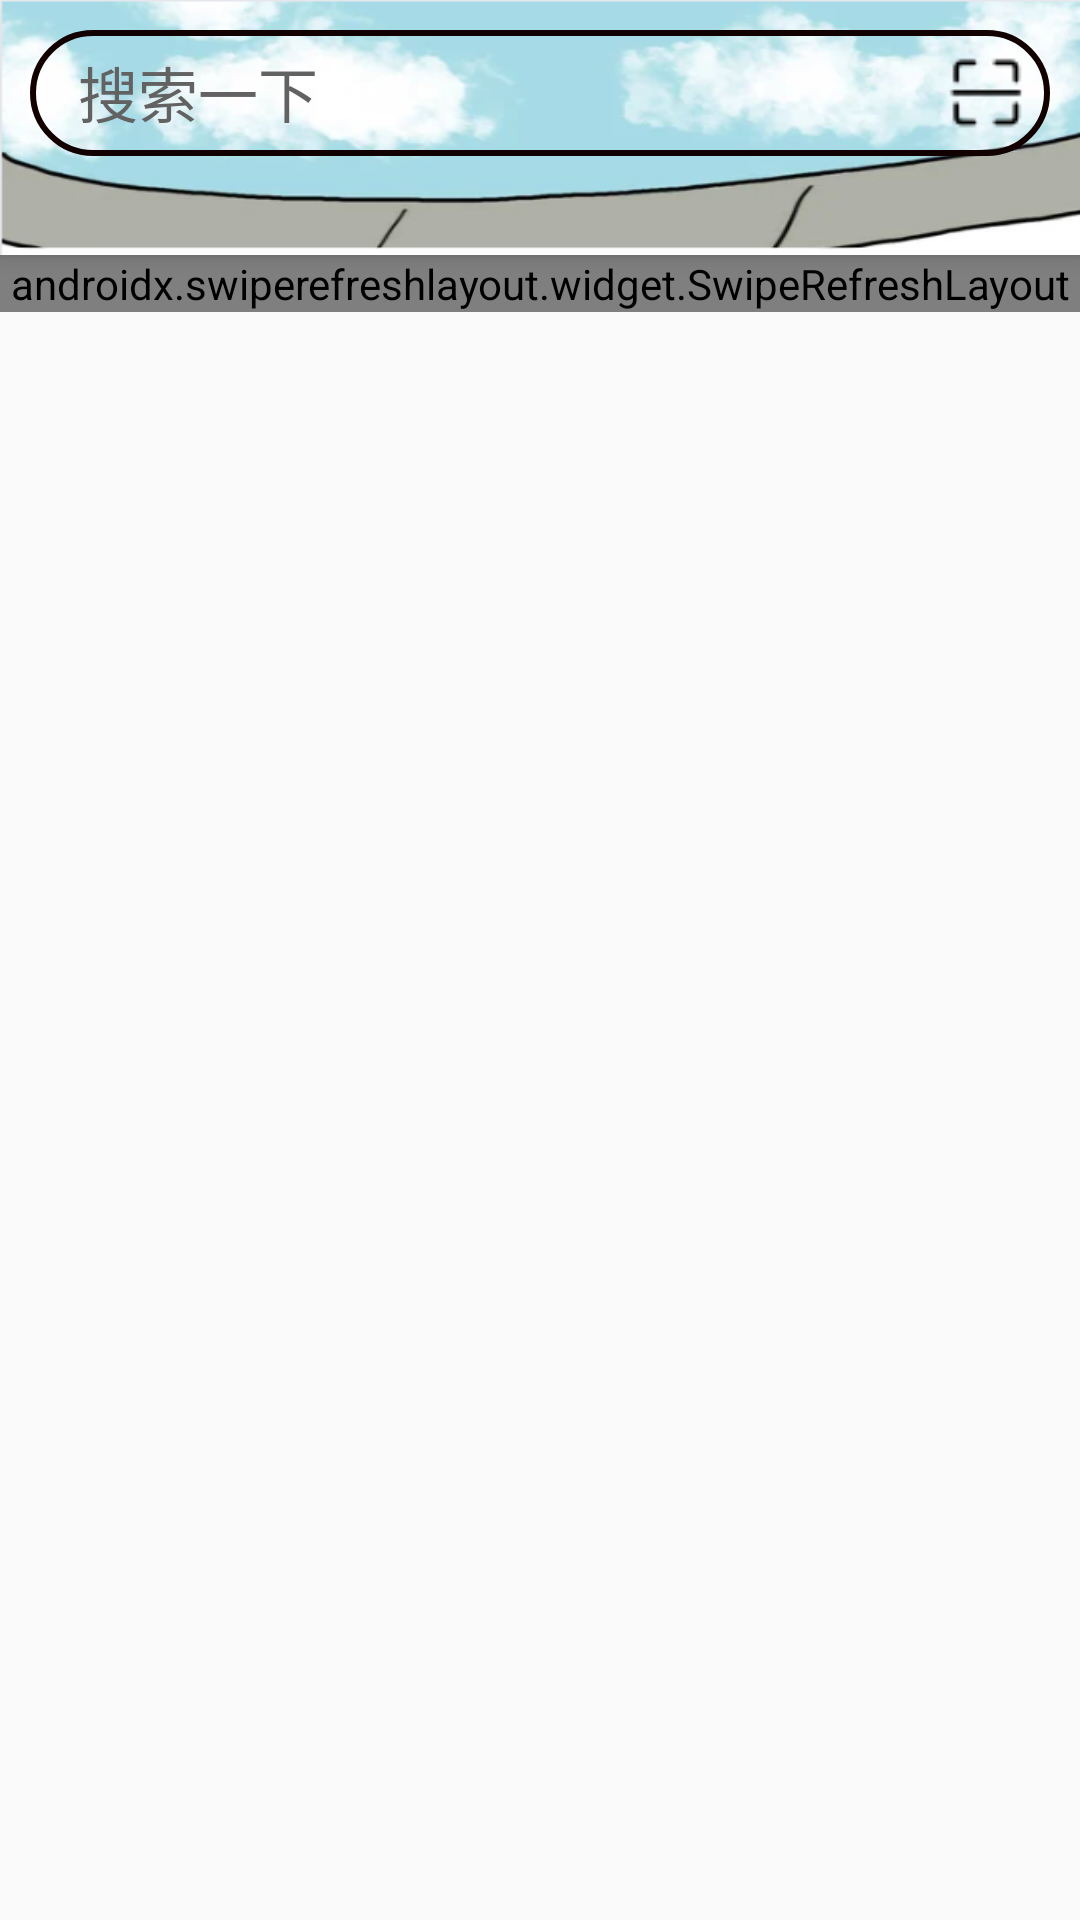

Icons on this 1080w x 1920h Android screen, each with the point to tap as point (x, y):
saomiao: point (987, 93)
